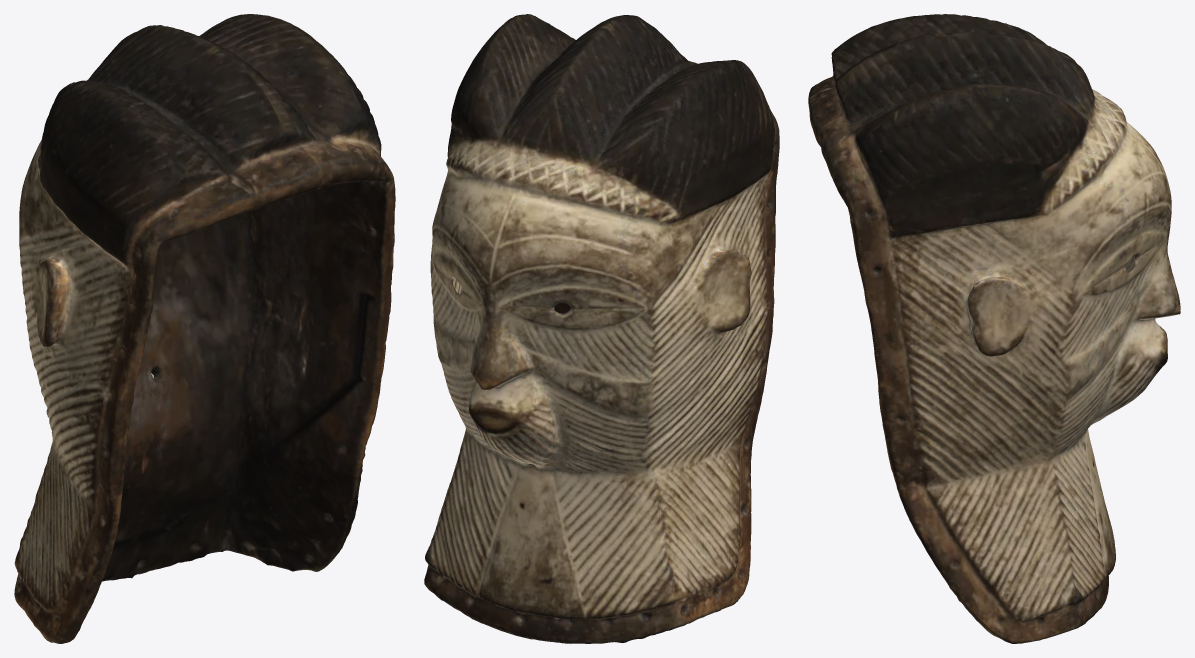
File: preview.glb
3 renders of one model, left to right at view 1: azimuth 30°, elevation 25°; view 2: azimuth 150°, elevation 25°; view 3: azimuth 270°, elevation 25°, orthographic. The views are drawn at different scales.
Parts seen in each view (by area): view 1: Object_2; view 2: Object_2; view 3: Object_2.
Boxes of the visible parts, box(x1,y1,x2,y2) form: Object_2: box(14, 14, 395, 643); Object_2: box(424, 14, 779, 643); Object_2: box(808, 14, 1180, 643).
Bounding box in the file's own units: 216 × 386 × 235.
1 material, 1 textured.
